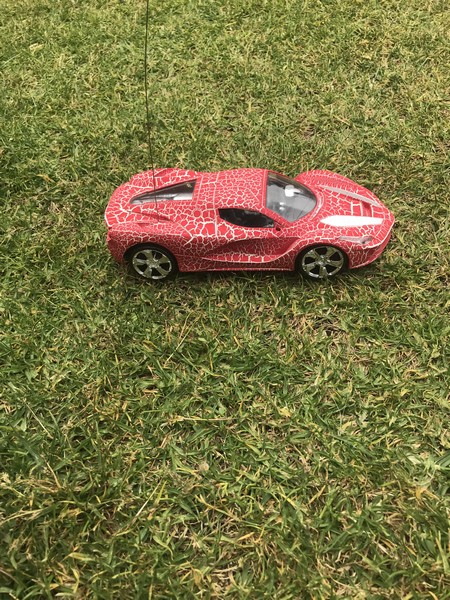RC: (102, 165, 396, 282)
